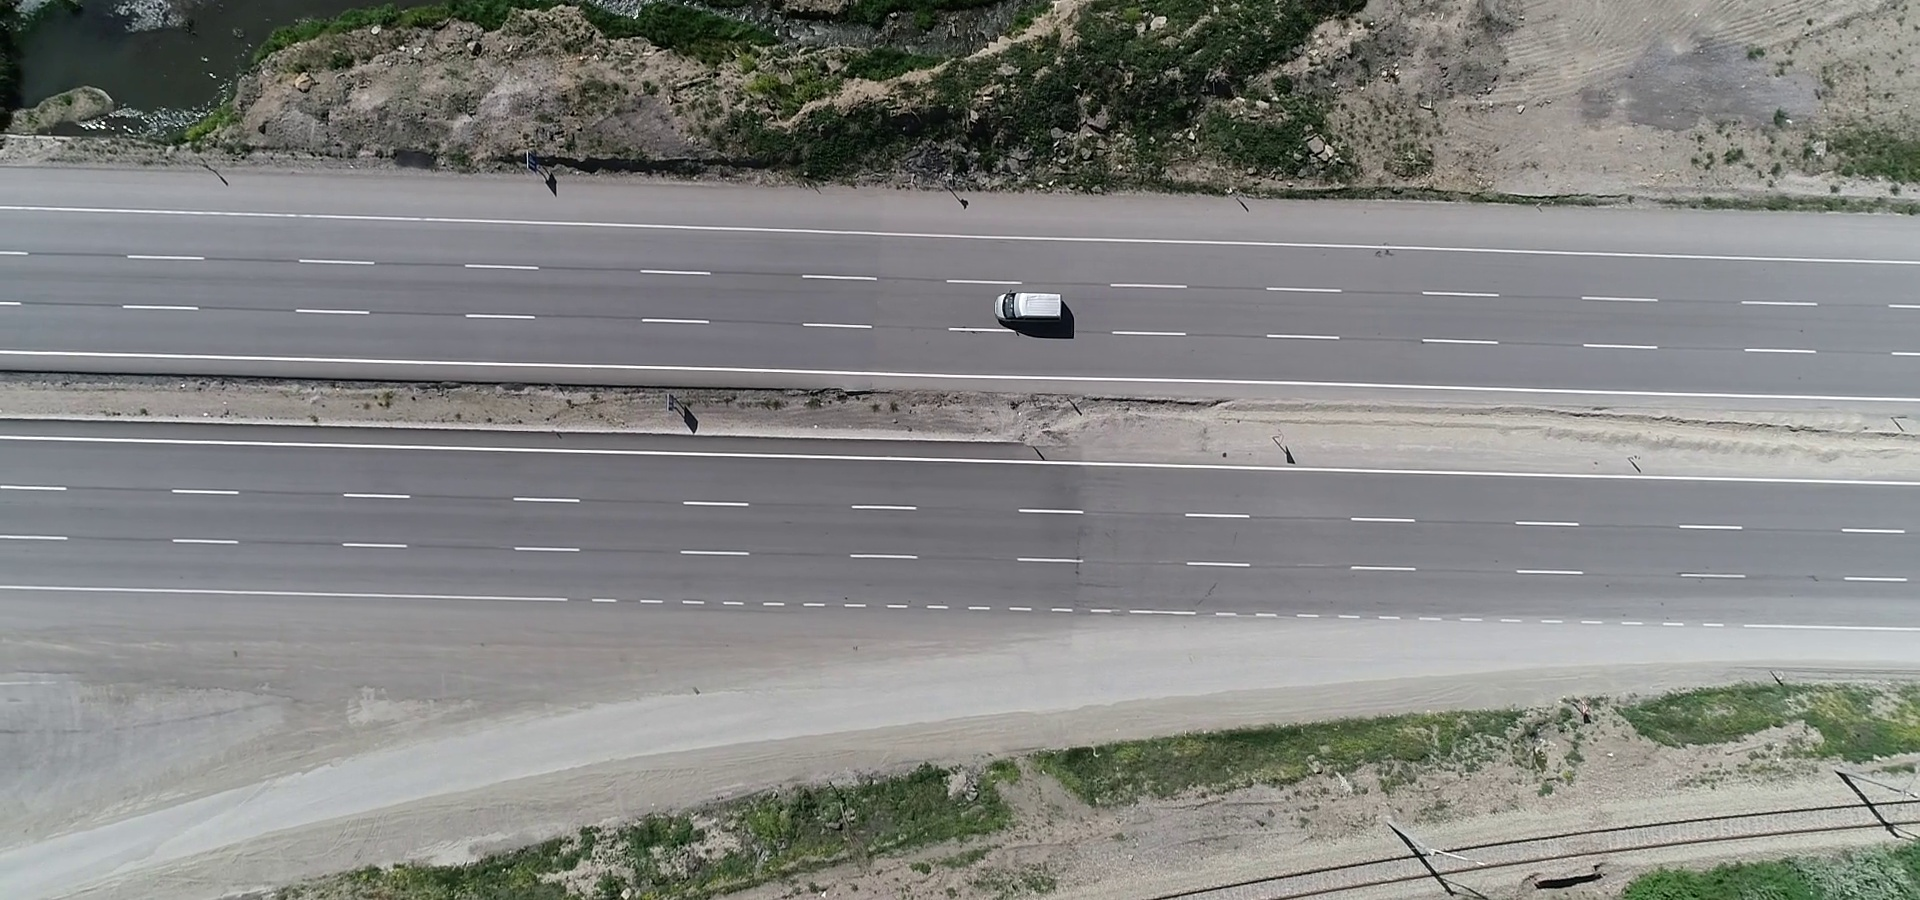araba: (987, 285, 1071, 328)
